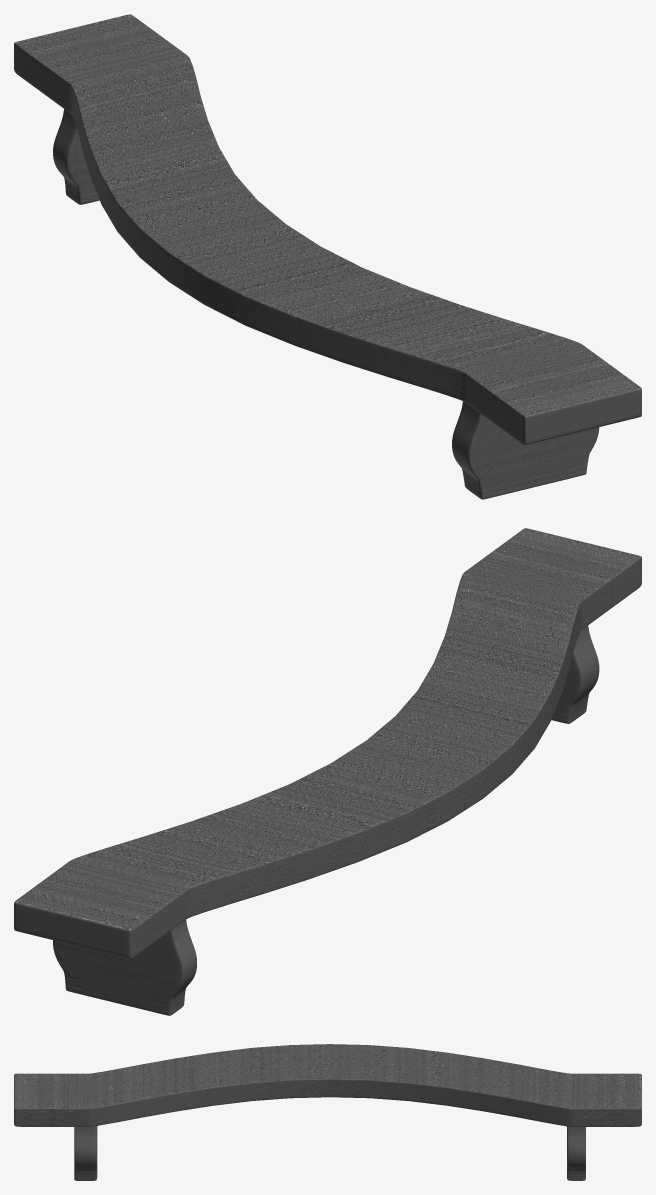
File: chairfbx.fbx
3 renders of one model, top to bottom at view 1: azimuth 30°, elevation 25°; view 2: azimuth 150°, elevation 25°; view 3: azimuth 270°, elevation 25°, orthographic. The views are drawn at different scales.
Parts seen in each view (by area): view 1: stonebench; view 2: stonebench; view 3: stonebench.
Boxes of the visible parts, left/top/right/bottom form: stonebench: left=14, top=14, right=641, bottom=499; stonebench: left=14, top=528, right=641, bottom=1015; stonebench: left=14, top=1044, right=641, bottom=1180.
Bounding box in the file's own units: 2.79 × 1.45 × 11.06.
